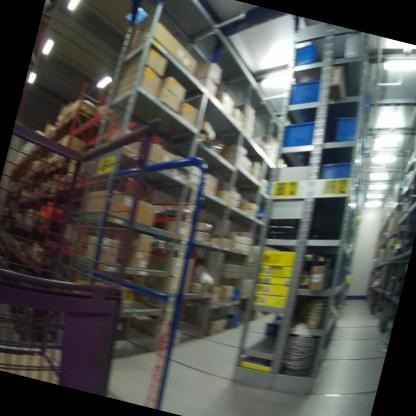stillage: (0, 85, 193, 400)
